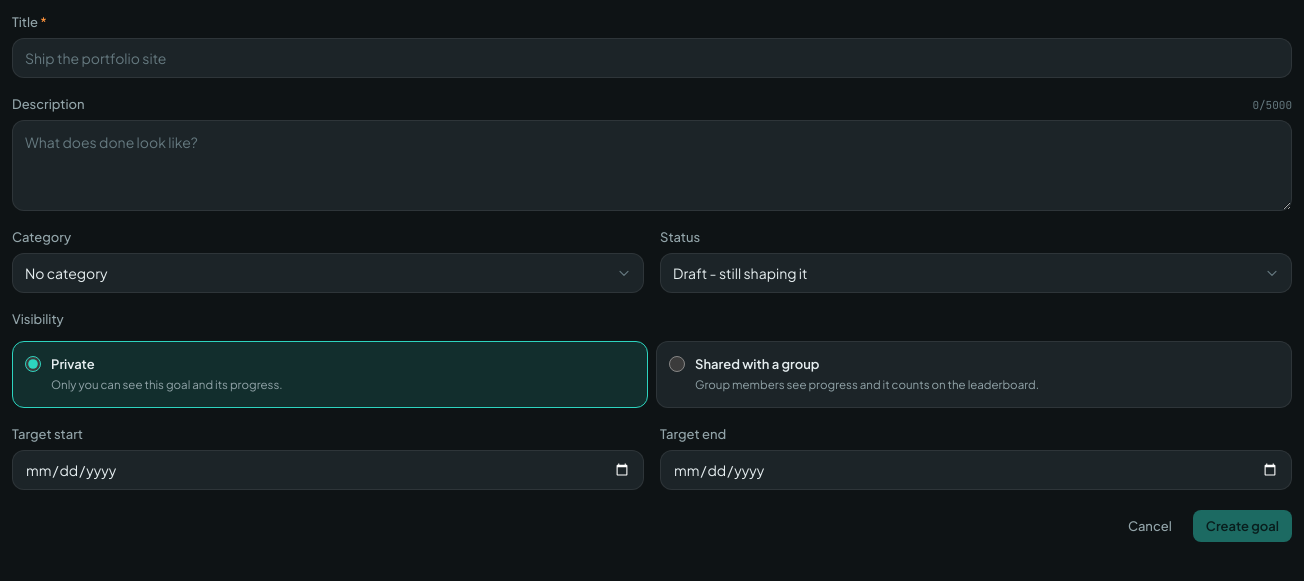
Test: GoalForm validation states › rejects an end date that precedes the start date
The width and height of the screenshot is (1304, 581).
Type "Ship it" into the field labelled "Title *" at (652, 58), box [12,38,1292,78]
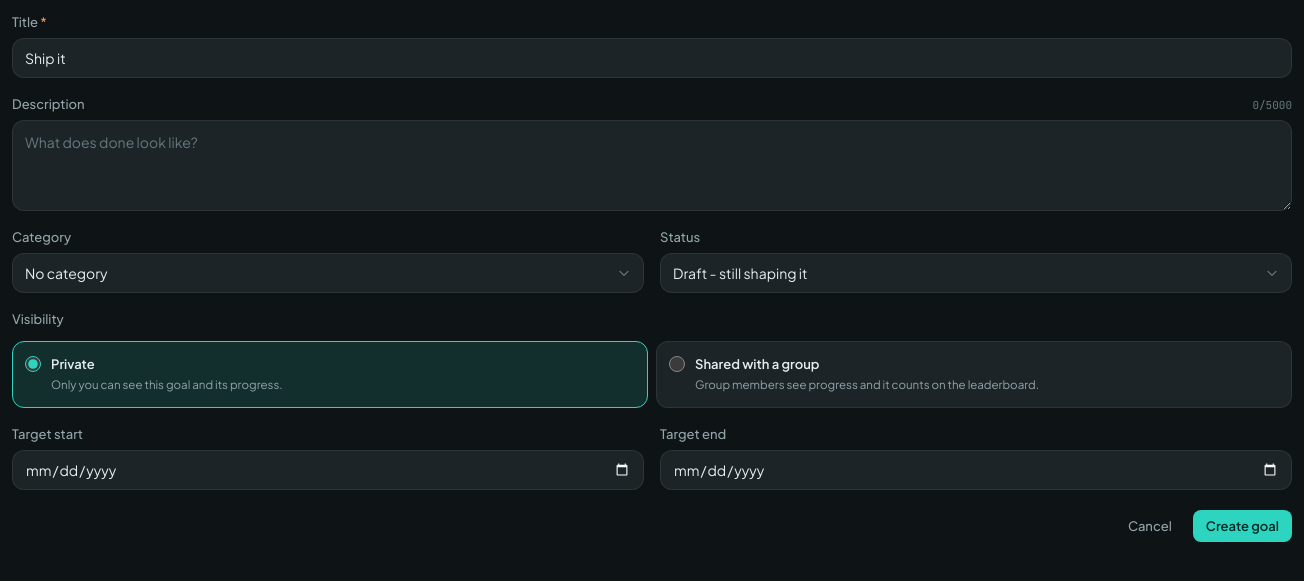
Type "2026-05-10" into the date field labelled "Target start" at (328, 470), box [12,450,644,490]
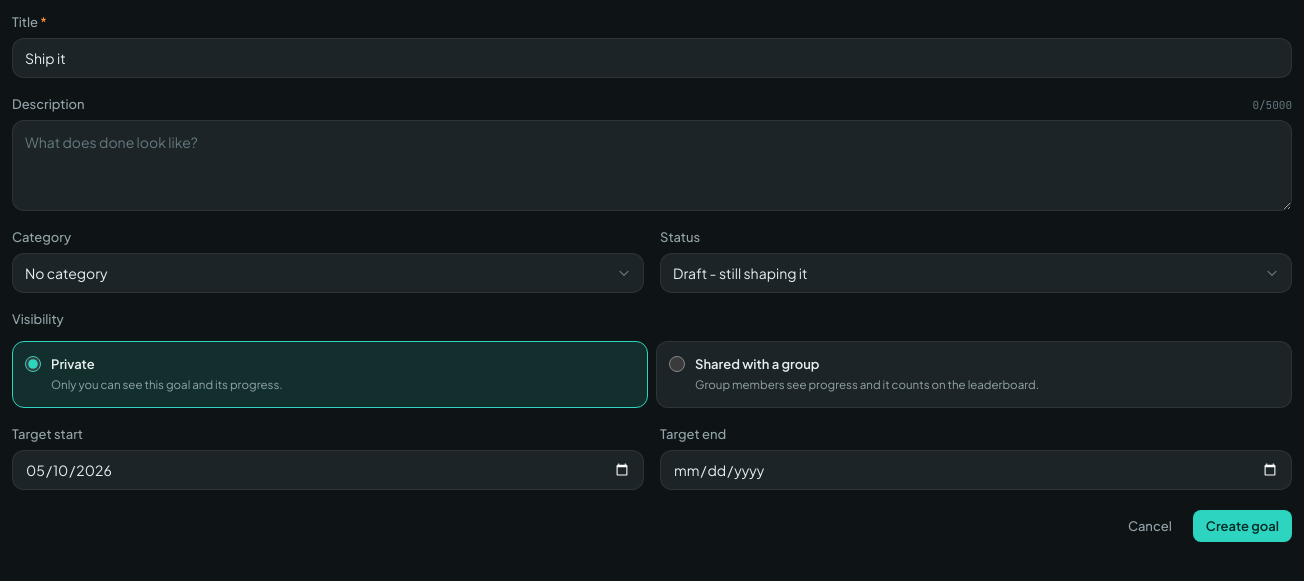
Type "2026-05-01" into the date field labelled "Target end" at (976, 470), box [660,450,1292,490]
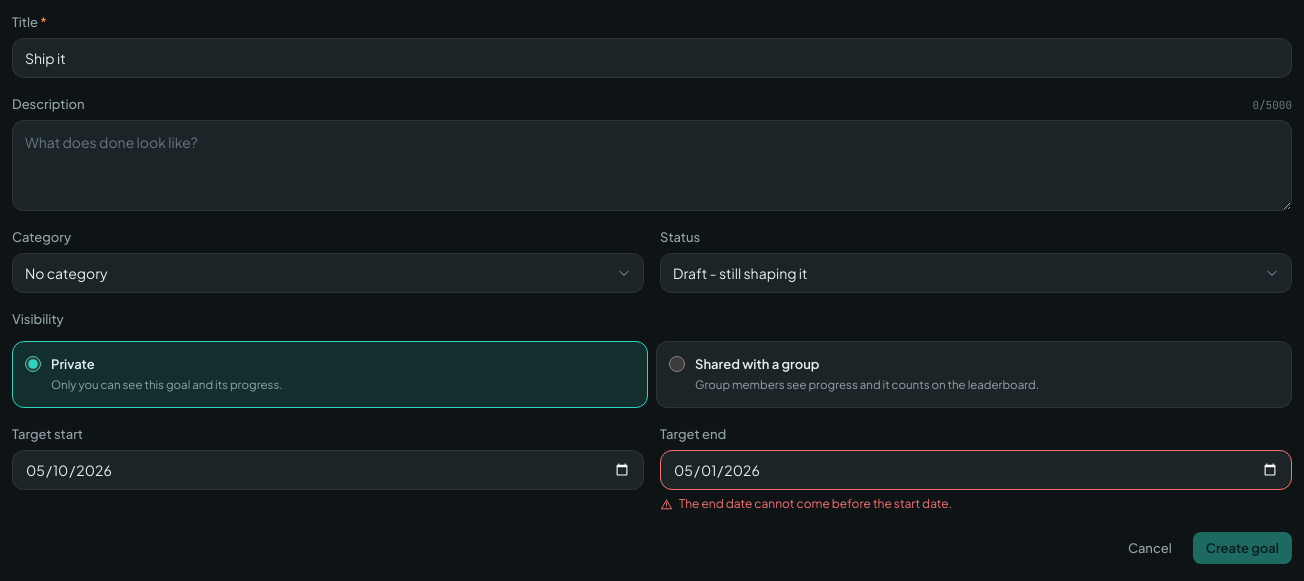
Check: the text "The end date cannot come before the start date." is shown, box [679,496,952,512]
Check: the button "Create goal" is disabled, box [1193,532,1292,564]
